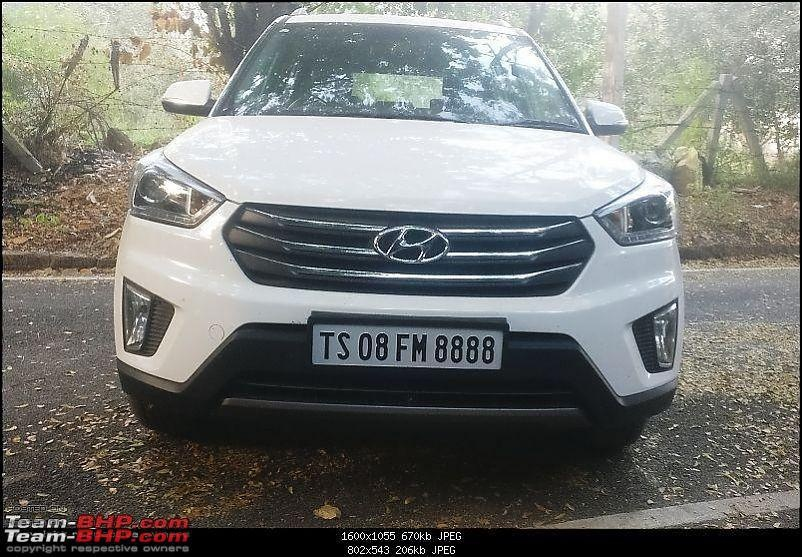number_plate: (311, 324, 506, 370)
